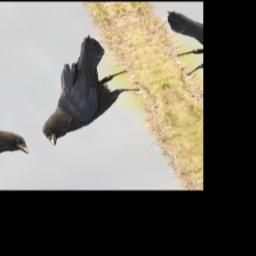Crow: (0, 30, 157, 148)
